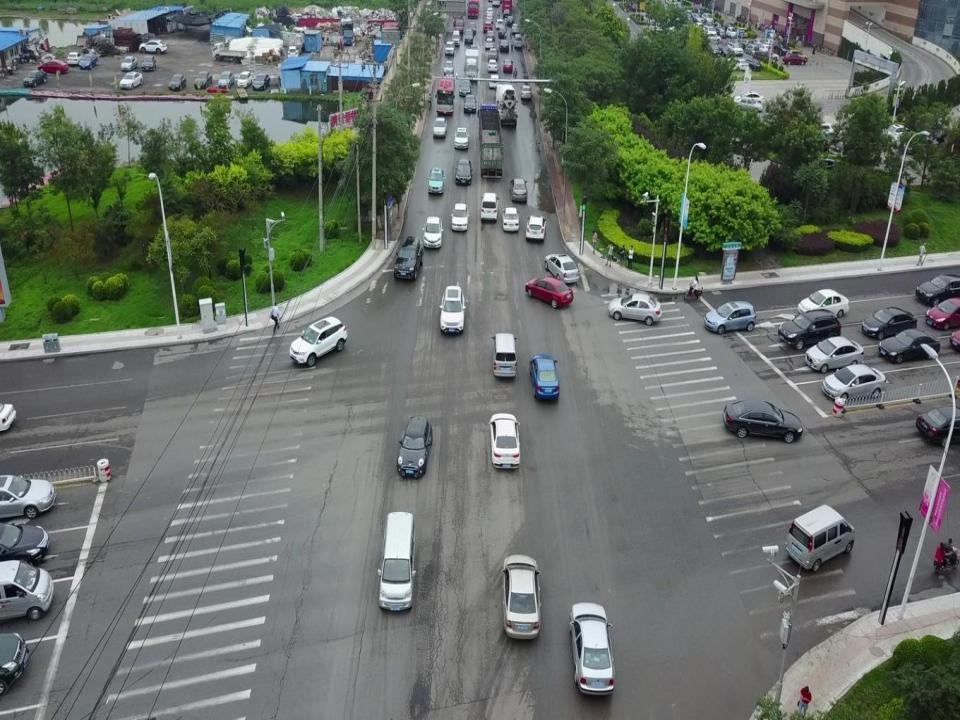bus: (435, 74, 455, 117)
car: (568, 600, 616, 696), (722, 397, 804, 443), (501, 553, 542, 641), (289, 315, 348, 367), (776, 309, 840, 350), (819, 362, 886, 401), (0, 474, 55, 520), (396, 414, 433, 481), (878, 326, 941, 365), (0, 521, 49, 569), (804, 334, 864, 372), (861, 306, 919, 341), (488, 411, 522, 470), (915, 405, 960, 448), (606, 292, 662, 325), (703, 300, 757, 334), (796, 287, 850, 319), (914, 273, 960, 308), (524, 276, 574, 308), (528, 353, 560, 402), (394, 236, 424, 282), (439, 284, 466, 334), (924, 294, 960, 330), (544, 252, 580, 284), (902, 132, 939, 155), (422, 216, 443, 248), (883, 122, 916, 142), (525, 214, 547, 242), (450, 202, 470, 232), (480, 192, 499, 223), (732, 96, 764, 114), (734, 90, 764, 109), (138, 38, 168, 56), (804, 120, 834, 138), (509, 176, 528, 204), (427, 166, 445, 195), (501, 206, 520, 233), (38, 60, 68, 76), (455, 159, 473, 185), (22, 70, 48, 88), (119, 70, 143, 89), (454, 126, 470, 150), (168, 72, 187, 92), (194, 70, 214, 89), (79, 52, 99, 70), (217, 70, 235, 90), (253, 72, 271, 92), (432, 117, 448, 138), (120, 55, 138, 72), (782, 54, 807, 66), (463, 93, 477, 114), (786, 50, 808, 63), (141, 54, 156, 72), (237, 70, 252, 88), (459, 78, 472, 97), (66, 51, 82, 65), (520, 84, 532, 100), (442, 60, 454, 76), (486, 58, 498, 74), (502, 58, 514, 74), (443, 40, 455, 56), (287, 44, 299, 60), (489, 74, 500, 90), (464, 28, 474, 44), (488, 47, 499, 61), (454, 20, 464, 35), (498, 38, 508, 52), (483, 21, 493, 34), (485, 30, 495, 42), (498, 26, 506, 40), (485, 38, 494, 50), (468, 22, 477, 34), (494, 19, 504, 29), (511, 23, 519, 34), (506, 15, 514, 25), (486, 13, 494, 23), (486, 7, 494, 17)
truck: (476, 102, 504, 178), (210, 40, 248, 64), (464, 48, 479, 81)
van: (784, 503, 856, 573), (376, 511, 416, 613), (0, 559, 56, 622), (491, 332, 518, 380), (451, 29, 460, 47), (514, 34, 522, 48)
